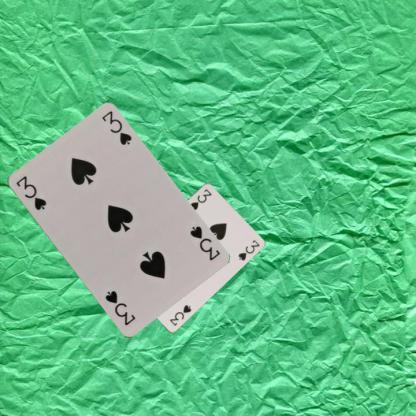3s: (187, 223, 221, 262), (13, 173, 47, 211), (167, 302, 192, 327), (188, 186, 212, 211)
